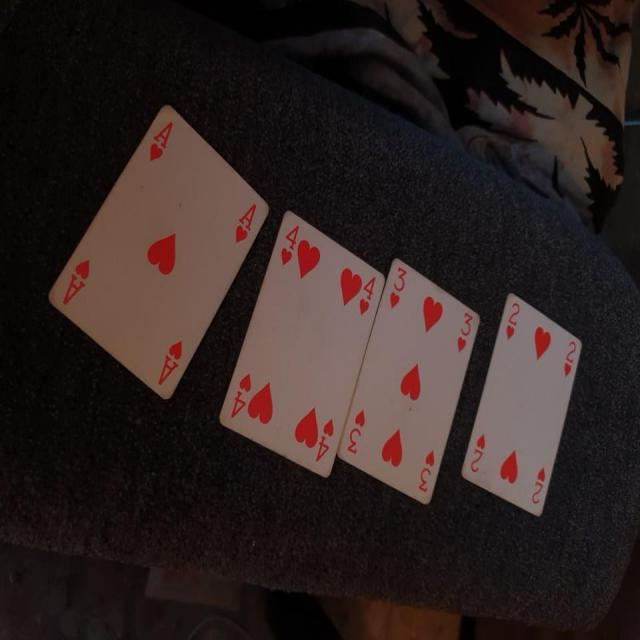2 of hearts: (462, 282, 588, 522)
3 of hearts: (331, 254, 483, 513)
4 of hearts: (217, 202, 380, 488)
ace of hearts: (44, 94, 278, 408)
